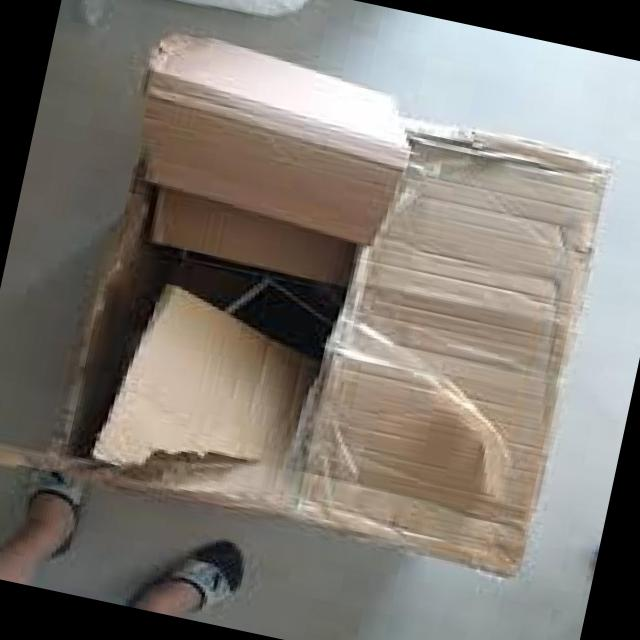box: (3, 391, 610, 606), (298, 51, 630, 435), (47, 18, 301, 390)
